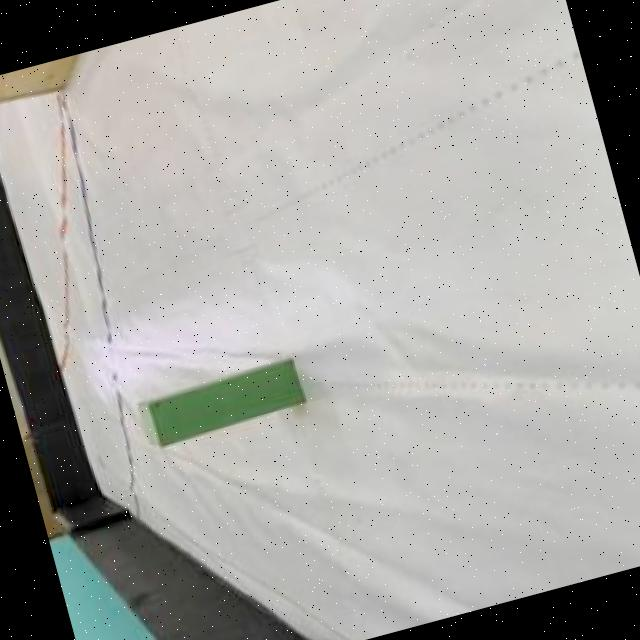greenbox: (135, 358, 309, 450)
